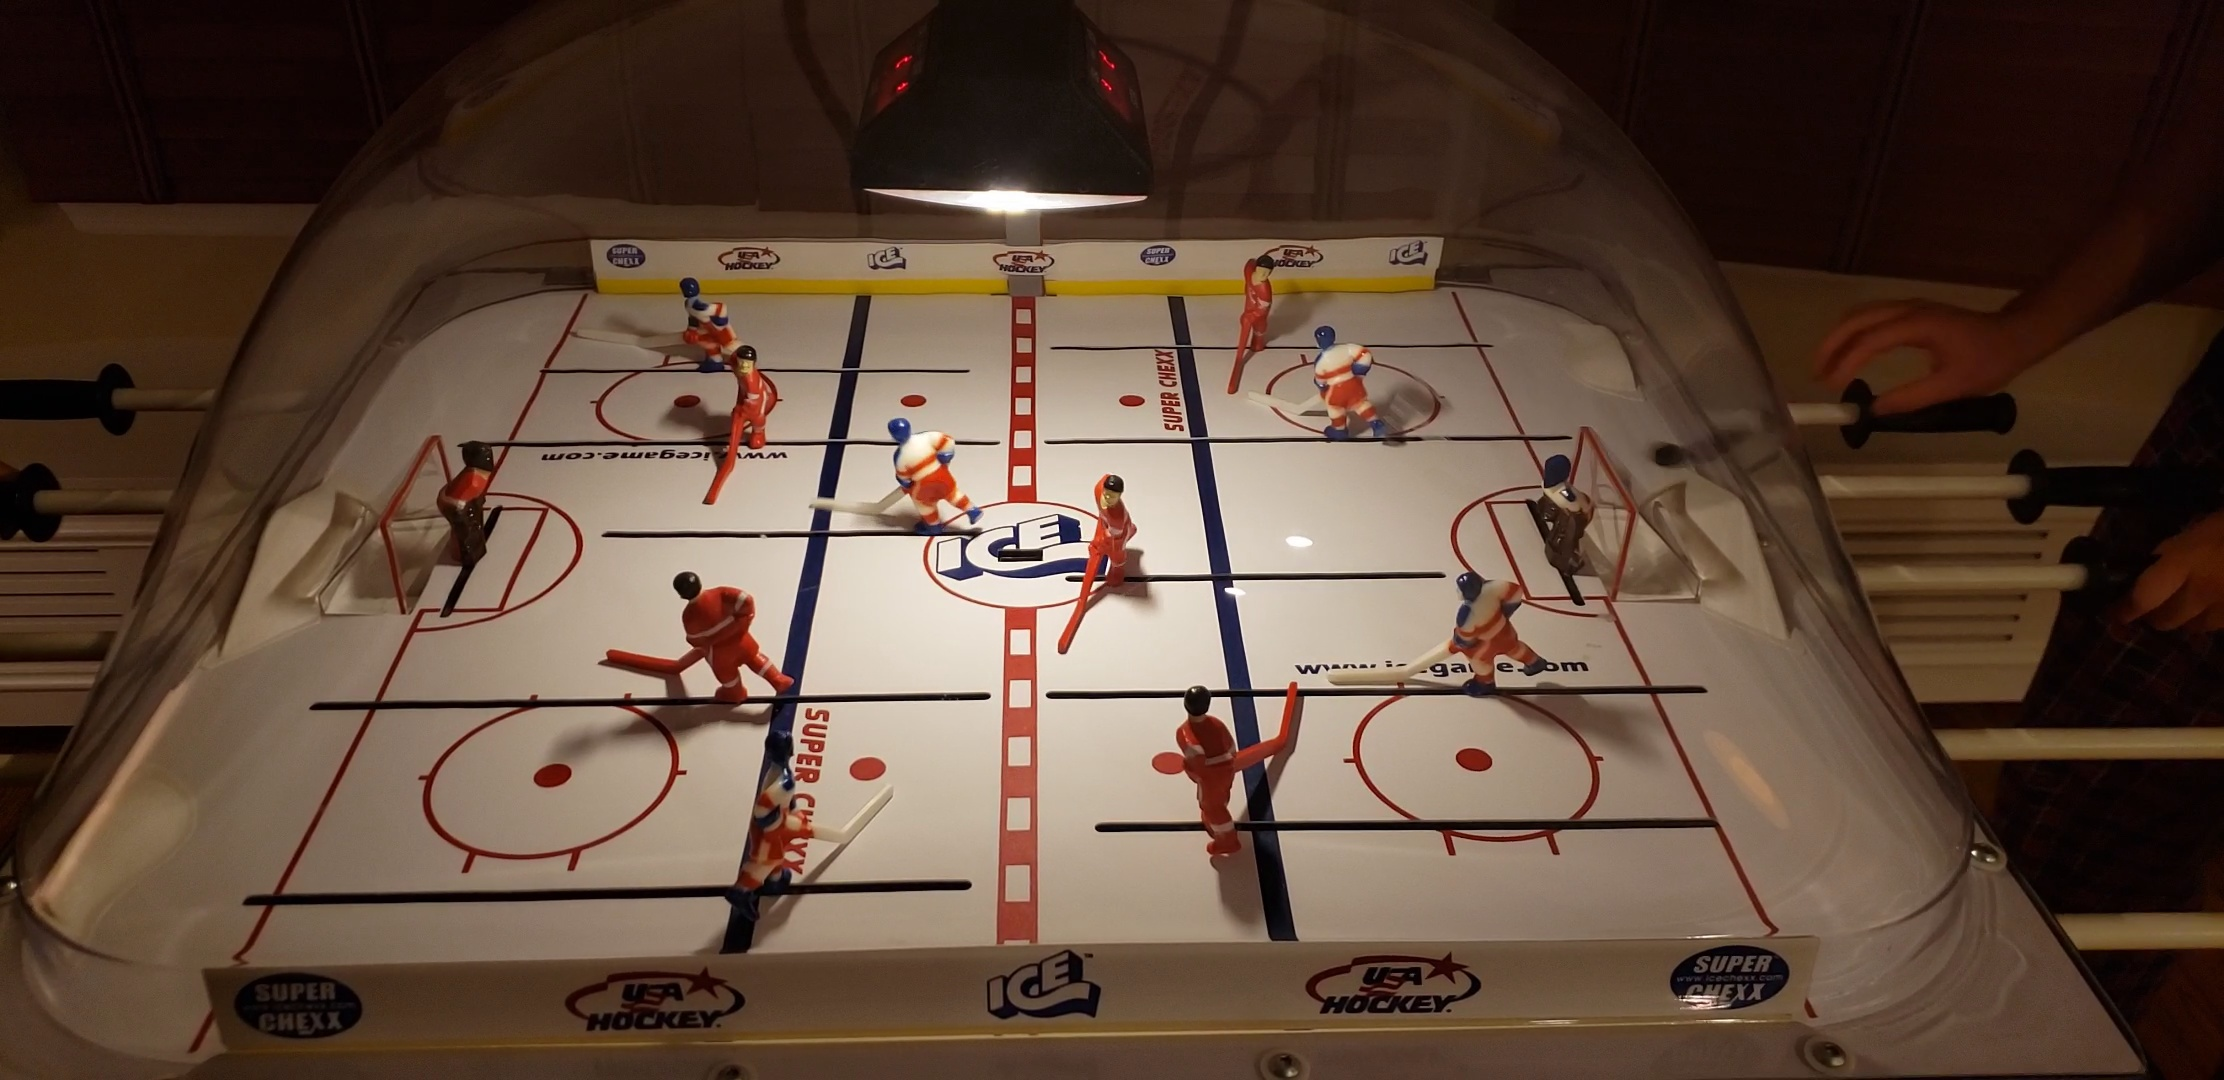puck: (1650, 441, 1689, 470)
